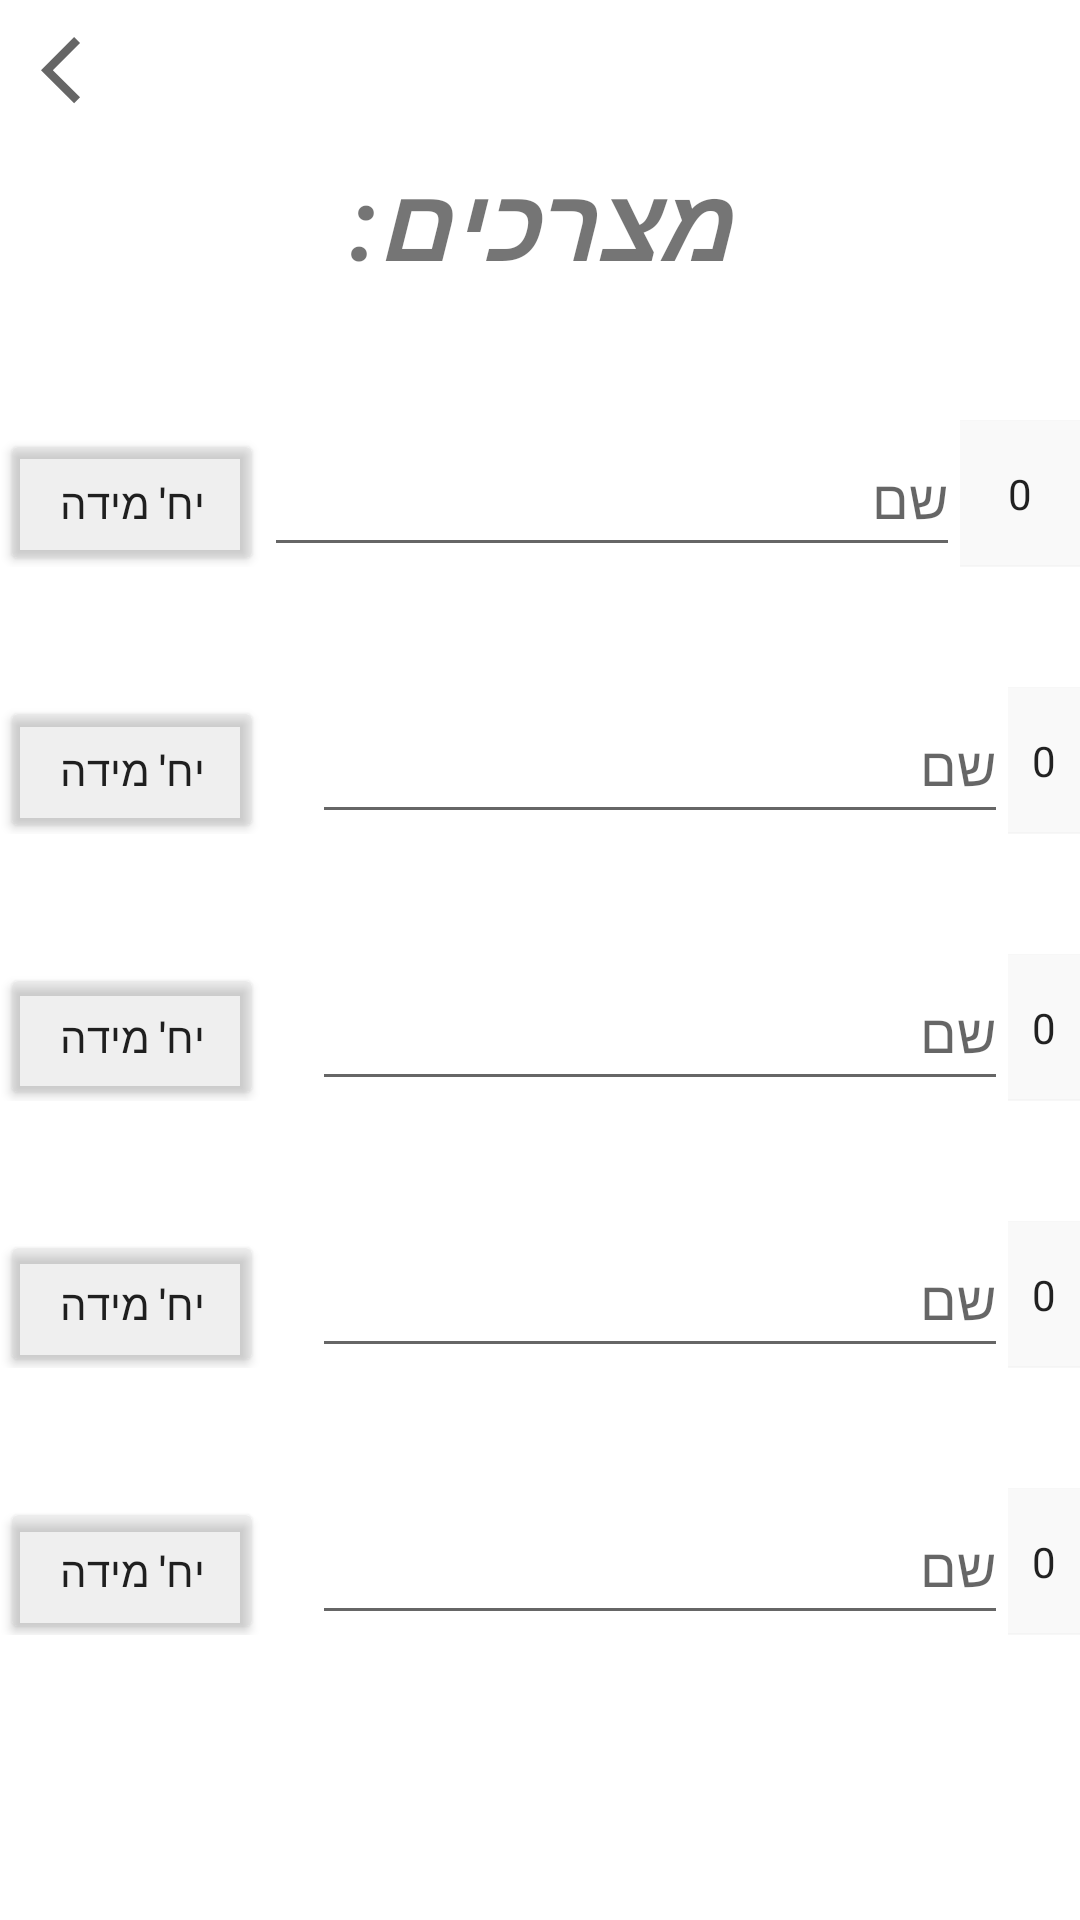

Icons on this 1080*1920 Android screen, each with the point to tap as (x,y):
arrow back: (60,70)
